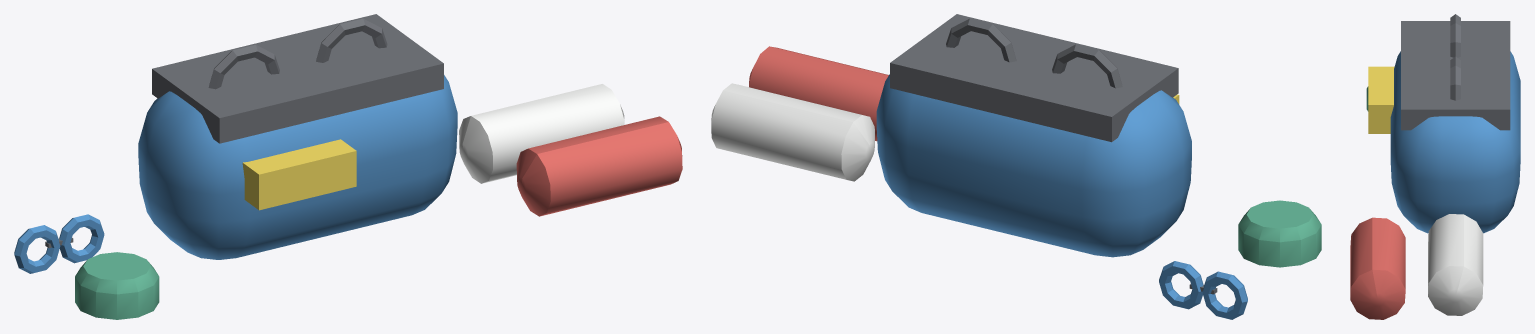
Rendered from public-swimming-baths-and-poolside-towels-and-kit-bag-3aca404e__35274.glb.
The picture shows the model from 3 angles, left to right: view 1: azimuth 30°, elevation 25°; view 2: azimuth 150°, elevation 25°; view 3: azimuth 270°, elevation 25°; orthographic projection. The views are drawn at different scales.
Visible parts, largest first — view 1: towels-and-kit-bag; view 2: towels-and-kit-bag; view 3: towels-and-kit-bag.
Boxes of the visible parts, left/top/right/bottom form: towels-and-kit-bag: left=14, top=14, right=682, bottom=319; towels-and-kit-bag: left=711, top=14, right=1321, bottom=319; towels-and-kit-bag: left=1350, top=14, right=1520, bottom=319.
Size of the model in its own units: 1.2 by 0.4059 by 0.3733.
